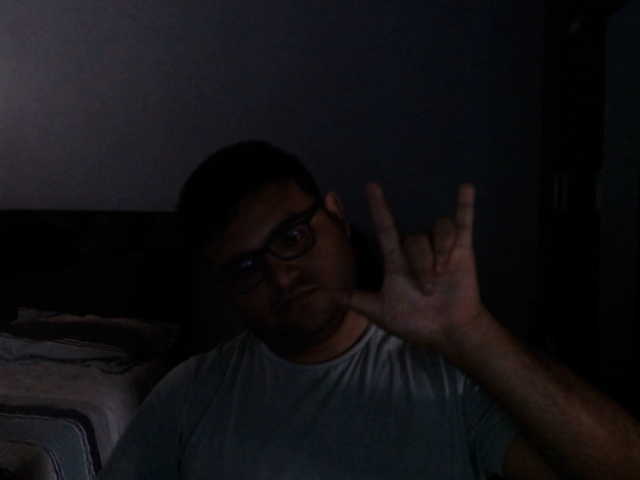I love you: (327, 174, 493, 351)
